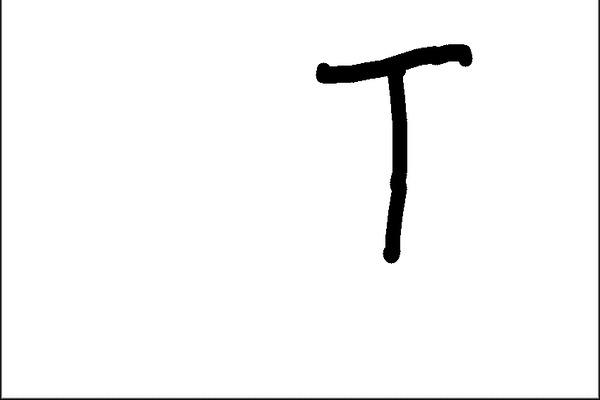T: (309, 42, 475, 262)
